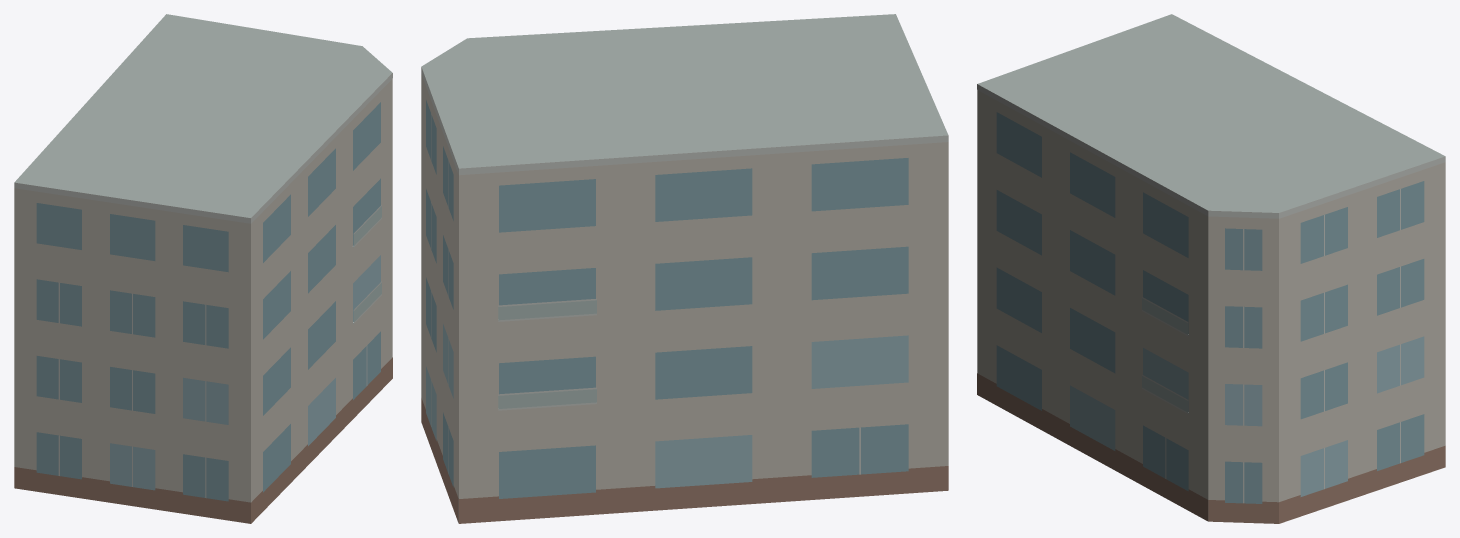
Rendered from survey-upis-32973209.glb.
3 renders of one model, left to right at view 1: azimuth 30°, elevation 25°; view 2: azimuth 150°, elevation 25°; view 3: azimuth 270°, elevation 25°, orthographic. The views are drawn at different scales.
Visible parts, largest first — view 1: survey-upis-32973209.tmp; view 2: survey-upis-32973209.tmp; view 3: survey-upis-32973209.tmp.
Boxes of the visible parts, left/top/right/bottom form: survey-upis-32973209.tmp: left=14, top=14, right=392, bottom=523; survey-upis-32973209.tmp: left=421, top=14, right=948, bottom=523; survey-upis-32973209.tmp: left=977, top=14, right=1445, bottom=523.
Bounding box in the file's own units: 17.99 × 13.1 × 17.9.
